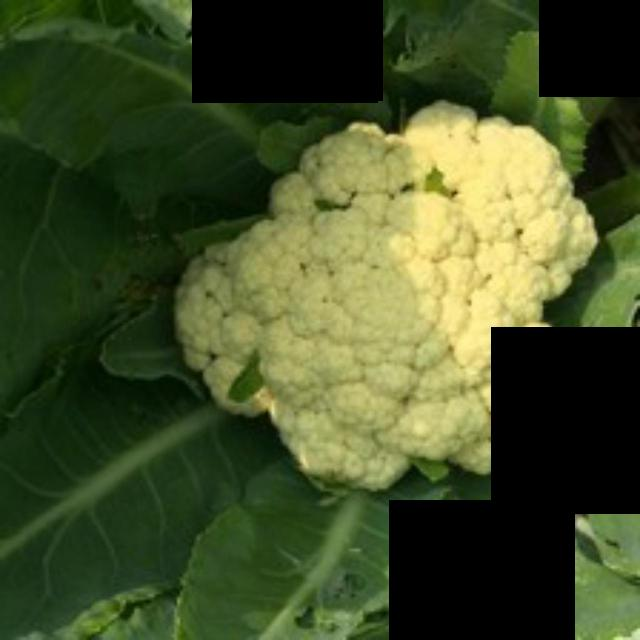cauliflower: (168, 114, 633, 499)
